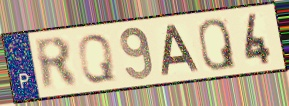4: (243, 11, 273, 67)
9: (118, 25, 156, 82)
A: (159, 23, 202, 77)
Q: (196, 17, 238, 72), (77, 33, 118, 85)
R: (32, 35, 81, 93)
